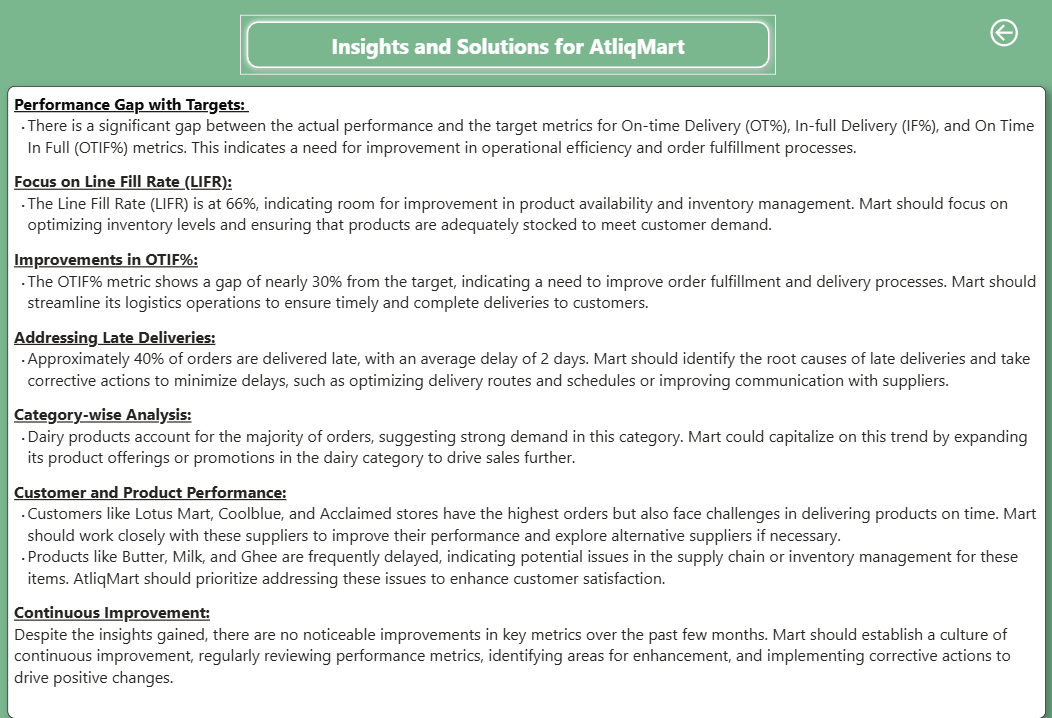

The dashboard page shown, as its layout file describes it:
{"tool":"powerbi","page":{"name":"Insights & Solutions","canvas":[1422,1000],"ordinal":3},"visuals":[{"type":"textbox","box":[16,128,1392,848],"z":0},{"type":"shape","box":[328.4,31.8,718.8,80.4],"z":1000},{"type":"actionButton","box":[1328,32,64,48],"z":2000}]}

Visuals, with their boxes on the page's 1422x1000 design canvas (x1, y1, x2, y2). These are canvas units, not pixel positions in the 1052x718 screenshot, which may show the page scaled, cropped or inside an application window:
textbox: box=[16, 128, 1408, 976]
shape: box=[328, 32, 1047, 112]
actionButton: box=[1328, 32, 1392, 80]
